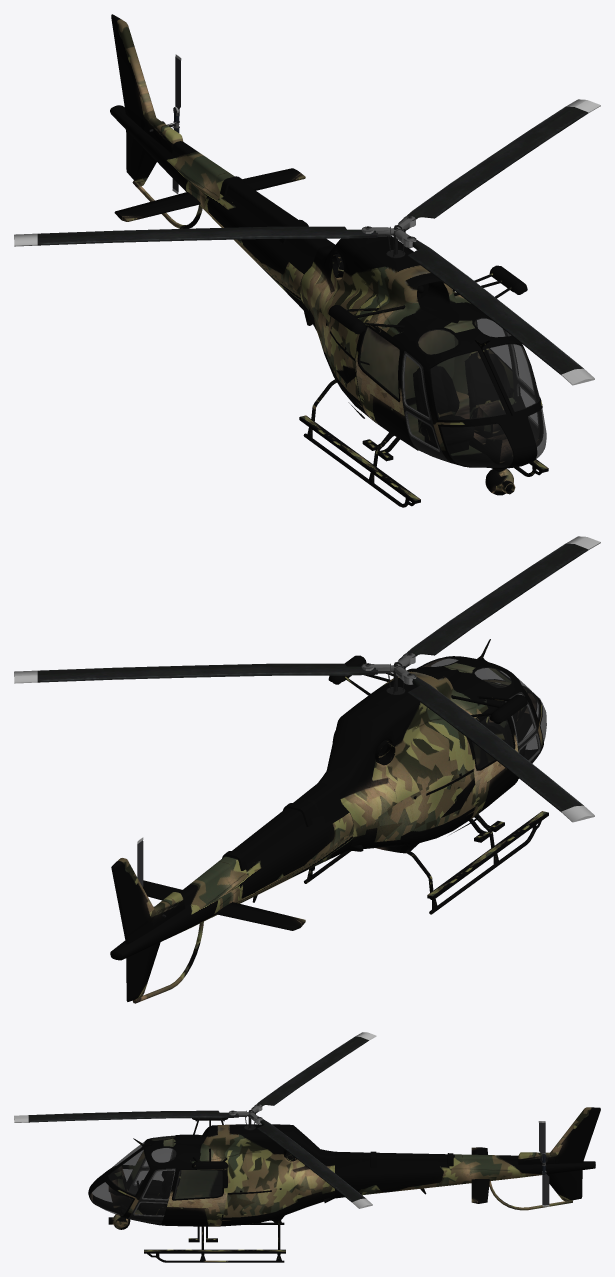
Rendered from Helicopter_1.FBX.
The picture shows the model from 3 angles, top to bottom: view 1: azimuth 30°, elevation 25°; view 2: azimuth 150°, elevation 25°; view 3: azimuth 270°, elevation 25°; orthographic projection. The views are drawn at different scales.
Parts seen in each view (by area): view 1: Body, Main rotor, Door R, Door L; view 2: Body, Main rotor, Door R; view 3: Body, Main rotor, Door L, Door R, Tail rotor.
Part boxes in pixels (left/top/right/bottom): Body: left=110, top=14, right=548, bottom=507; Main rotor: left=14, top=99, right=600, bottom=385; Door R: left=401, top=351, right=451, bottom=462; Door L: left=503, top=329, right=539, bottom=442; Body: left=110, top=639, right=548, bottom=1003; Main rotor: left=14, top=536, right=600, bottom=822; Door R: left=505, top=692, right=541, bottom=778; Body: left=88, top=1107, right=600, bottom=1262; Main rotor: left=14, top=1032, right=376, bottom=1208; Door L: left=128, top=1168, right=180, bottom=1223; Door R: left=128, top=1139, right=176, bottom=1194; Tail rotor: left=538, top=1121, right=549, bottom=1206.
Bounding box in the file's own units: 222 × 80.12 × 313.
